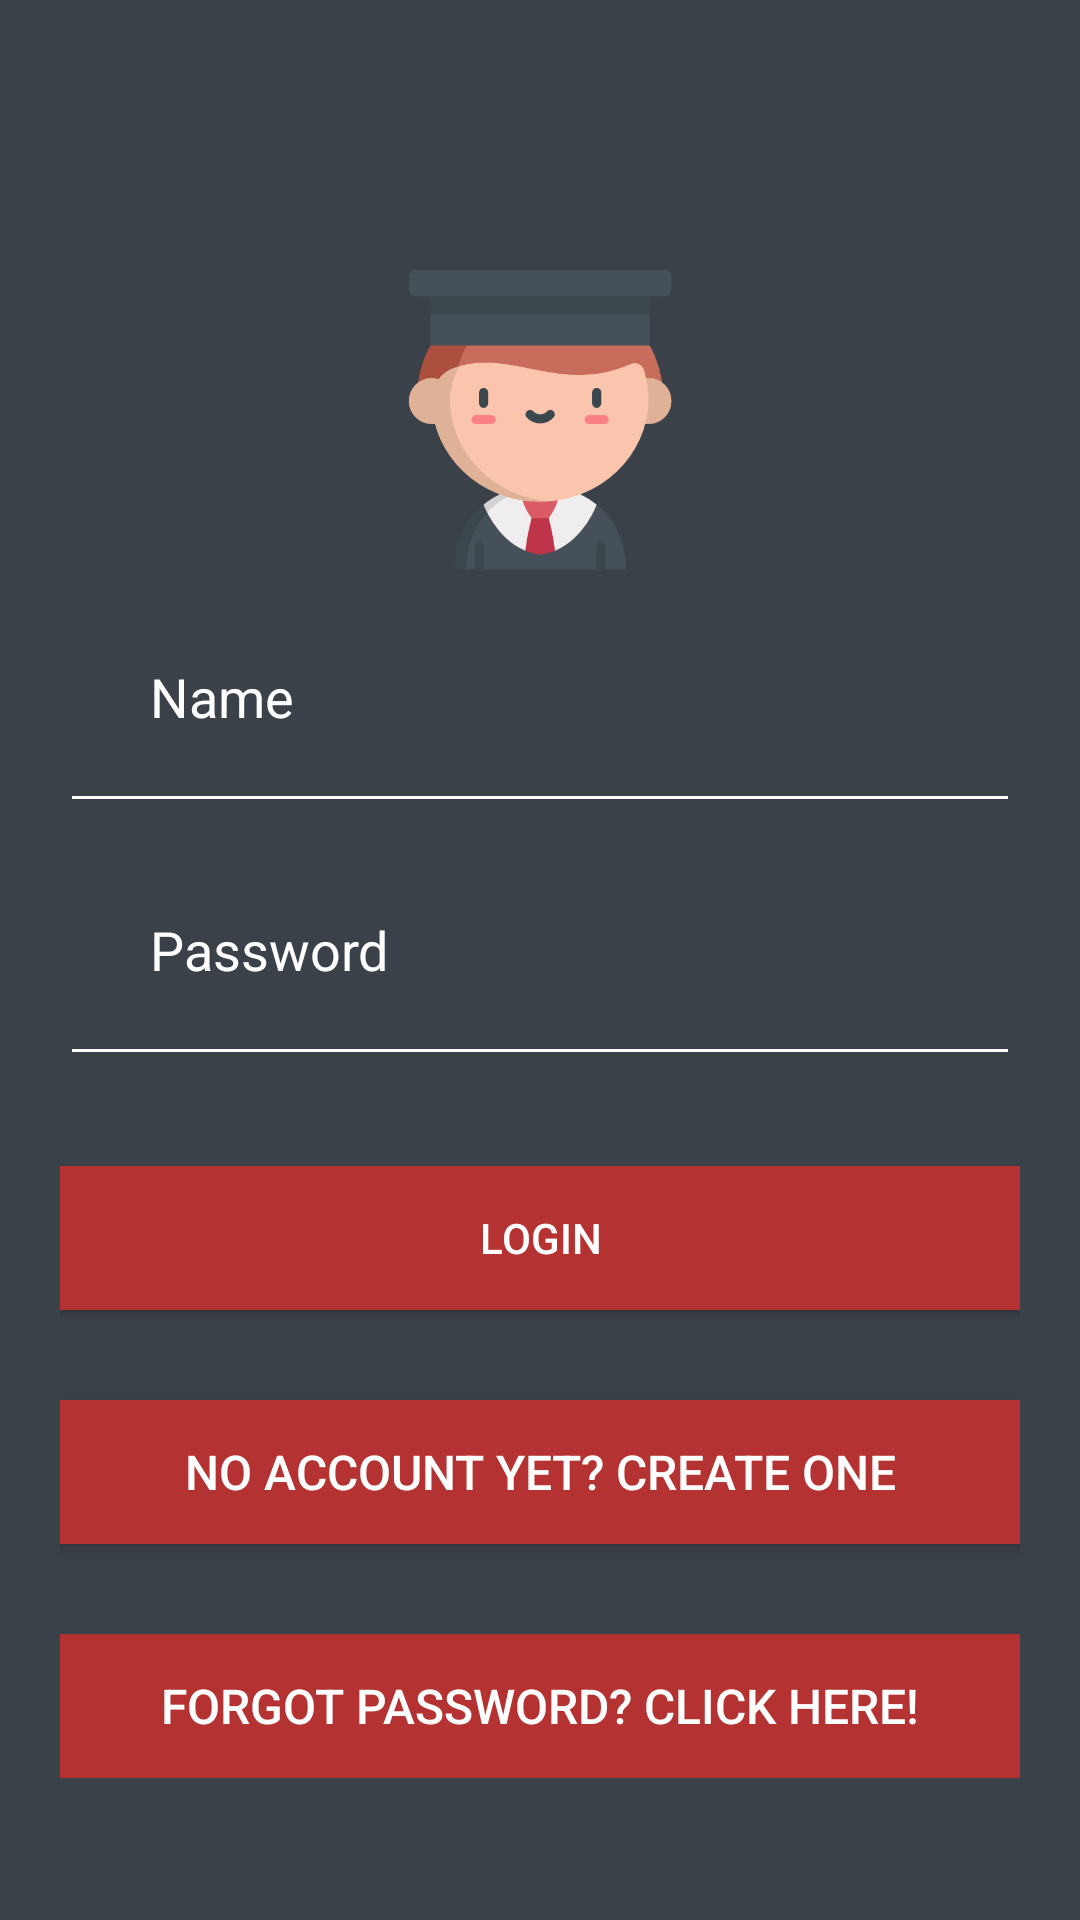

Screen size 1080w x 1920h. Icon name, then its box in pixels as region(x1, y1, x2, y2):
student login: region(409, 345, 672, 555)
